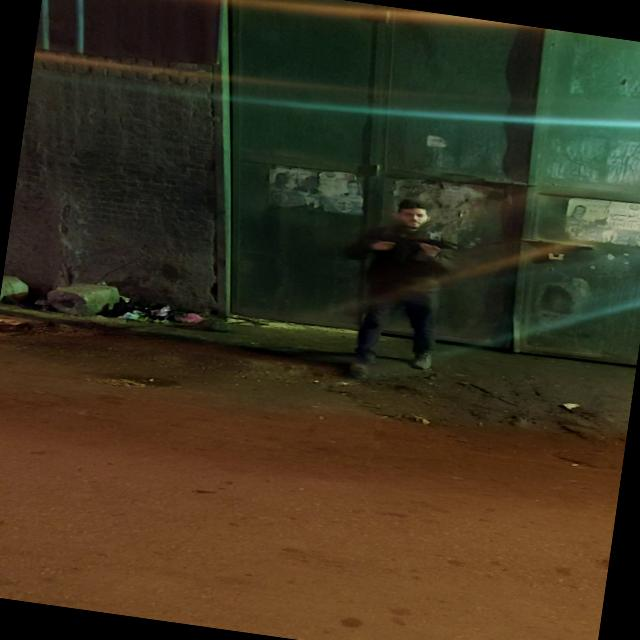long weapon: (340, 218, 483, 282)
